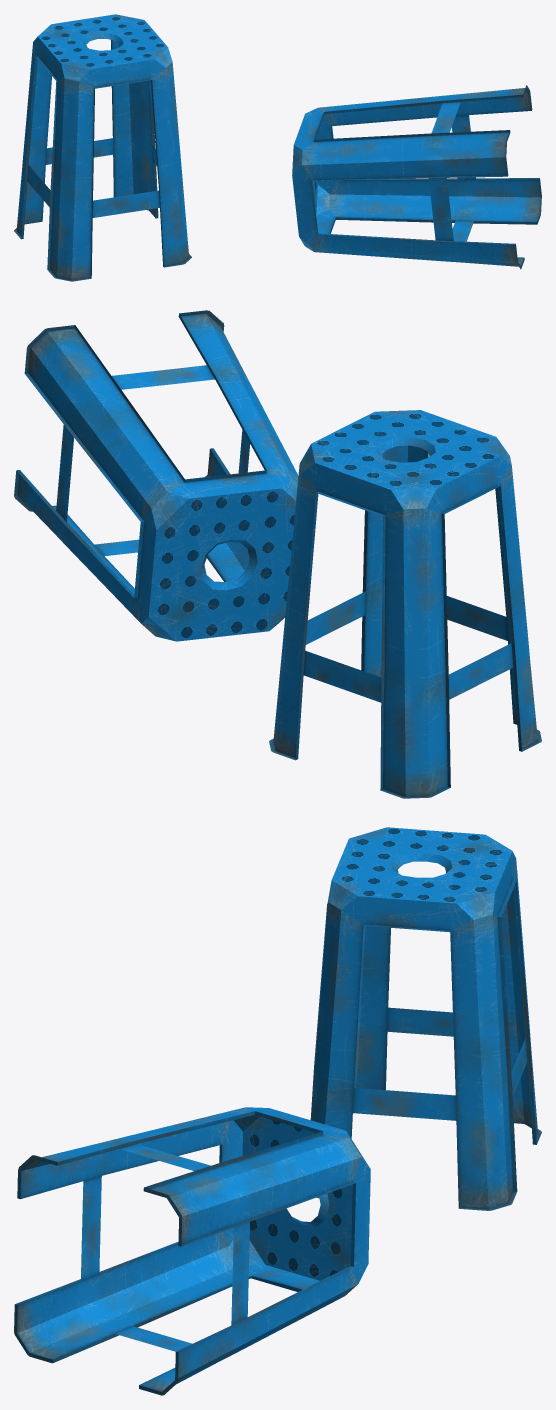
The model's file is prop1.glb.
The picture shows the model from 3 angles, top to bottom: view 1: azimuth 30°, elevation 25°; view 2: azimuth 150°, elevation 25°; view 3: azimuth 270°, elevation 25°; orthographic projection. The views are drawn at different scales.
Visible parts, largest first — view 1: Stool_tex_Stool_0; view 2: Stool_tex_Stool_0; view 3: Stool_tex_Stool_0.
Part boxes in pixels (bbox=[...]): Stool_tex_Stool_0: bbox=[14, 14, 541, 281]; Stool_tex_Stool_0: bbox=[14, 310, 541, 798]; Stool_tex_Stool_0: bbox=[14, 827, 541, 1395].
Size of the model in its own units: 1.26 by 0.574 by 0.9281.
Materials: 1 (1 with a texture image).
